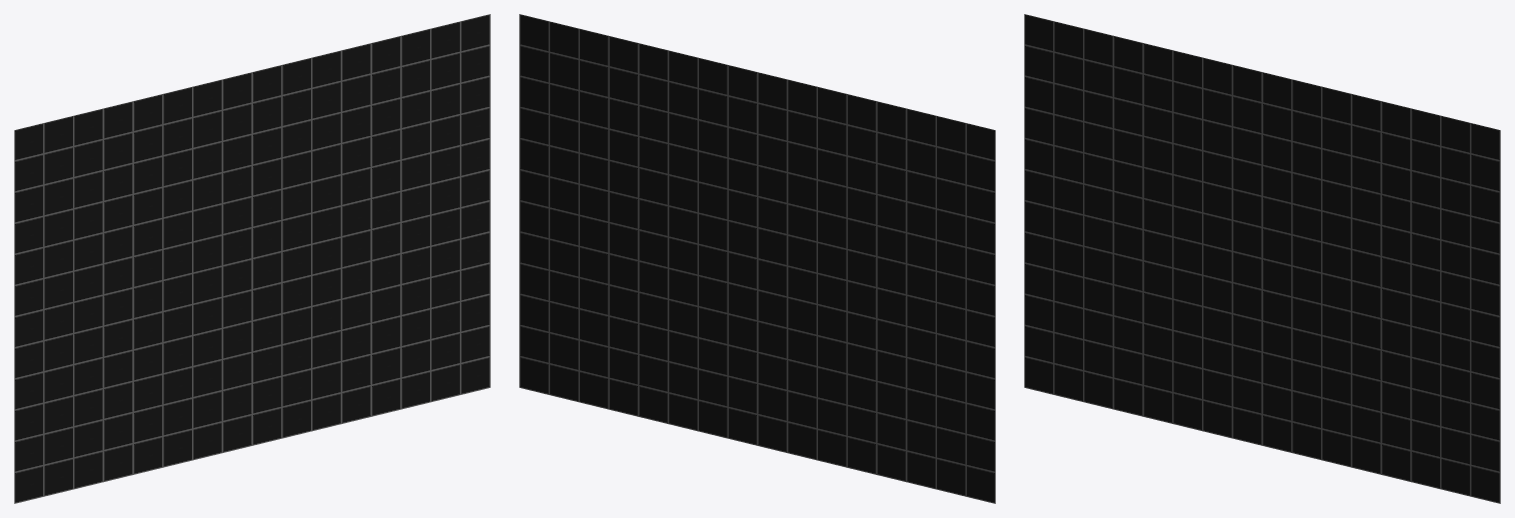
The model's file is PRoll_Grid_Unit.fbx.
3 views of the same model, side by side, from view 1: azimuth 30°, elevation 25°; view 2: azimuth 150°, elevation 25°; view 3: azimuth 330°, elevation 25° (orthographic).
Visible parts, largest first — view 1: pPlane1; view 2: pPlane1; view 3: pPlane1.
Boxes of the visible parts, left/top/right/bottom form: pPlane1: left=14, top=14, right=490, bottom=503; pPlane1: left=519, top=14, right=995, bottom=503; pPlane1: left=1024, top=14, right=1500, bottom=503.
Size of the model in its own units: 1600 by 1200 by 1.62e-12.
Materials: 1 (1 with a texture image).
